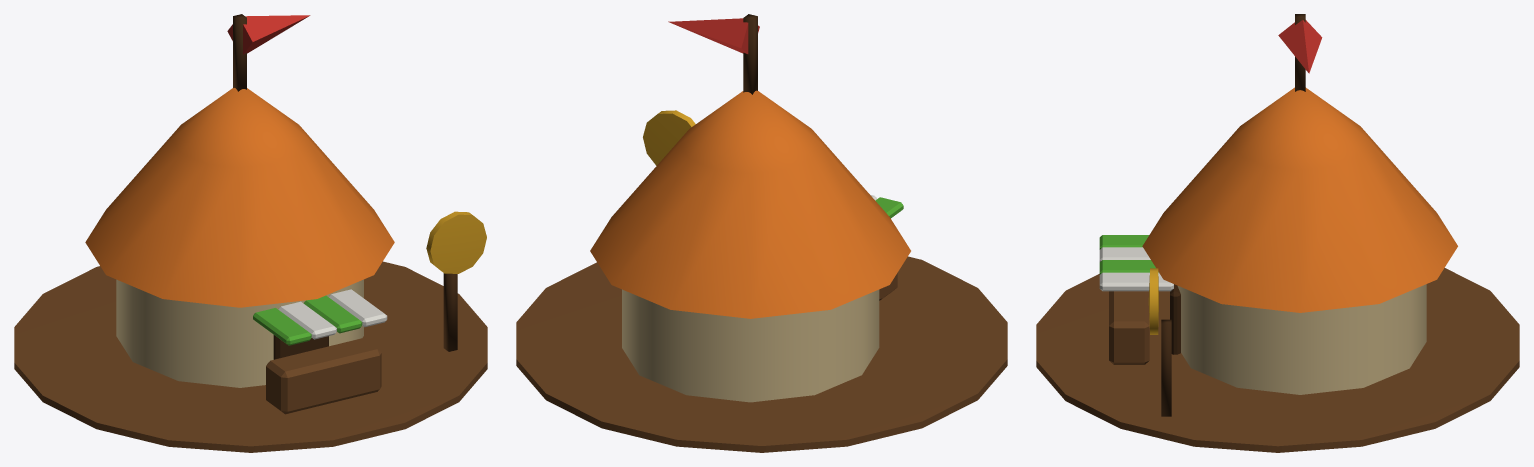
3 renders of one model, left to right at view 1: azimuth 30°, elevation 25°; view 2: azimuth 150°, elevation 25°; view 3: azimuth 270°, elevation 25°, orthographic. The views are drawn at different scales.
Parts seen in each view (by area): view 1: vila_0_base, vila_1_torreta; view 2: vila_0_base, vila_1_torreta; view 3: vila_0_base, vila_1_torreta.
Part boxes in pixels (box(x1,y1,x2,y2)): vila_0_base: box(14, 88, 487, 452); vila_1_torreta: box(227, 14, 310, 91); vila_0_base: box(516, 90, 1007, 452); vila_1_torreta: box(668, 14, 759, 94); vila_0_base: box(1036, 87, 1519, 452); vila_1_torreta: box(1278, 14, 1322, 91).
Bounding box in the file's own units: 1.32 × 0.993 × 1.3.
